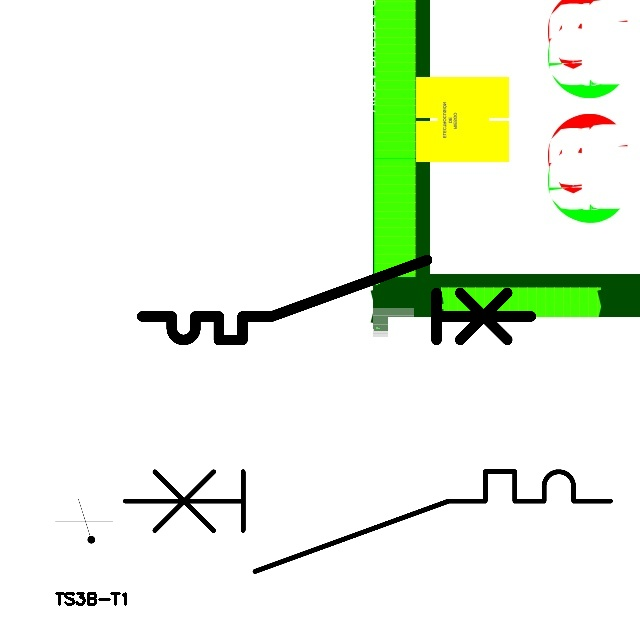interruptor_termomagnetico: (112, 459, 622, 584), (132, 250, 541, 350)
